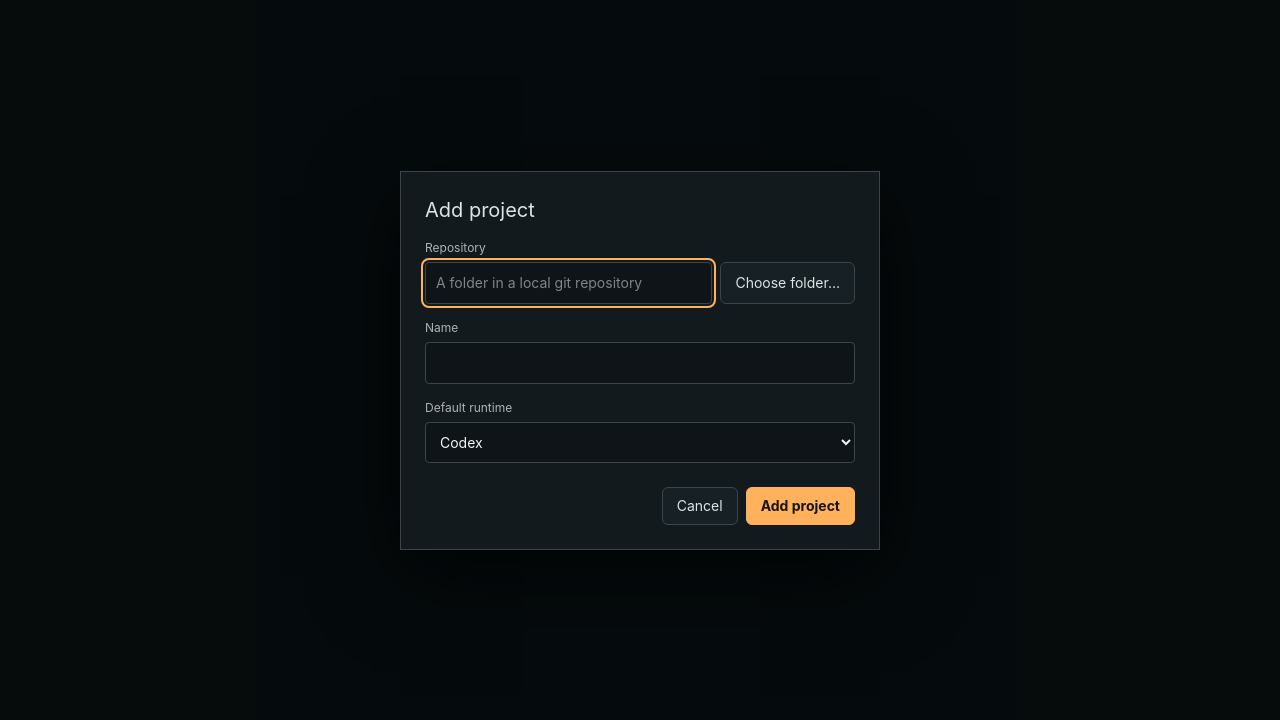
Test case: AddProjectDialog › drops an inspection that answers after the folder changed
The width and height of the screenshot is (1280, 720).
Type "/src/taken" into the field named "Repository folder" at (569,282), box [425,262,712,304]
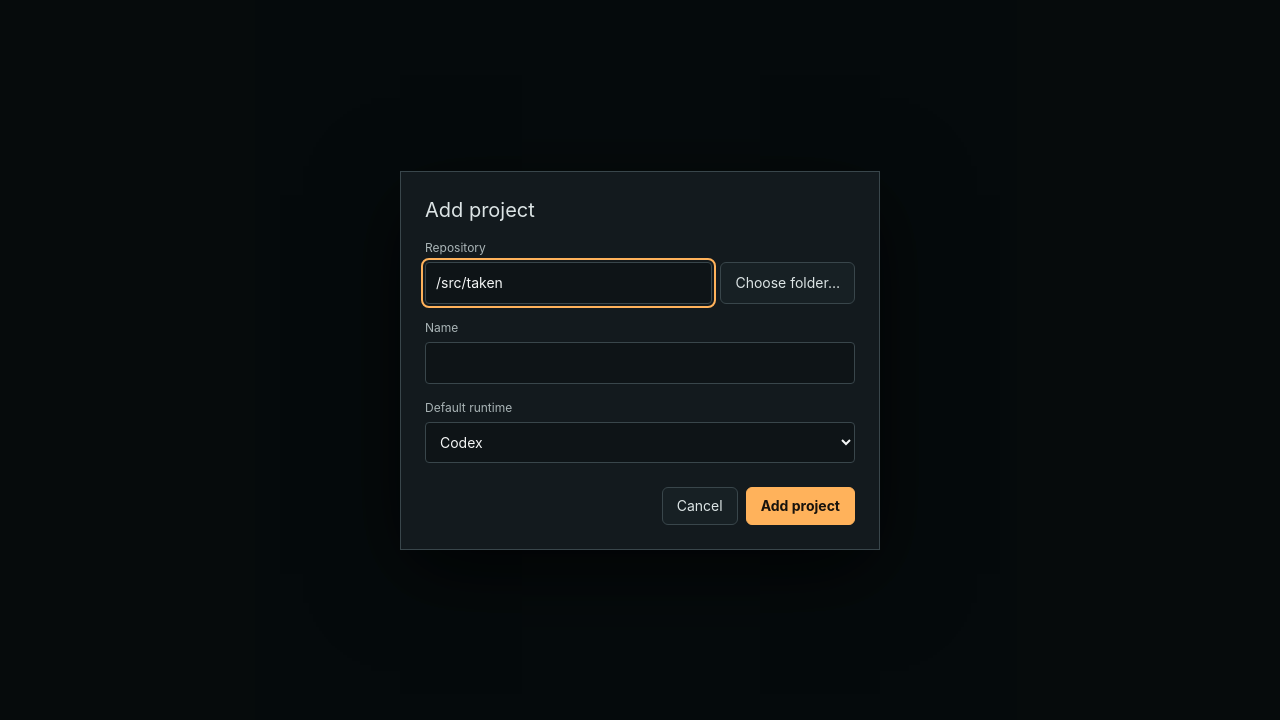
Replace the text in the field named "Repository folder" with "/src/bakery" at (569,282), box [425,262,712,304]
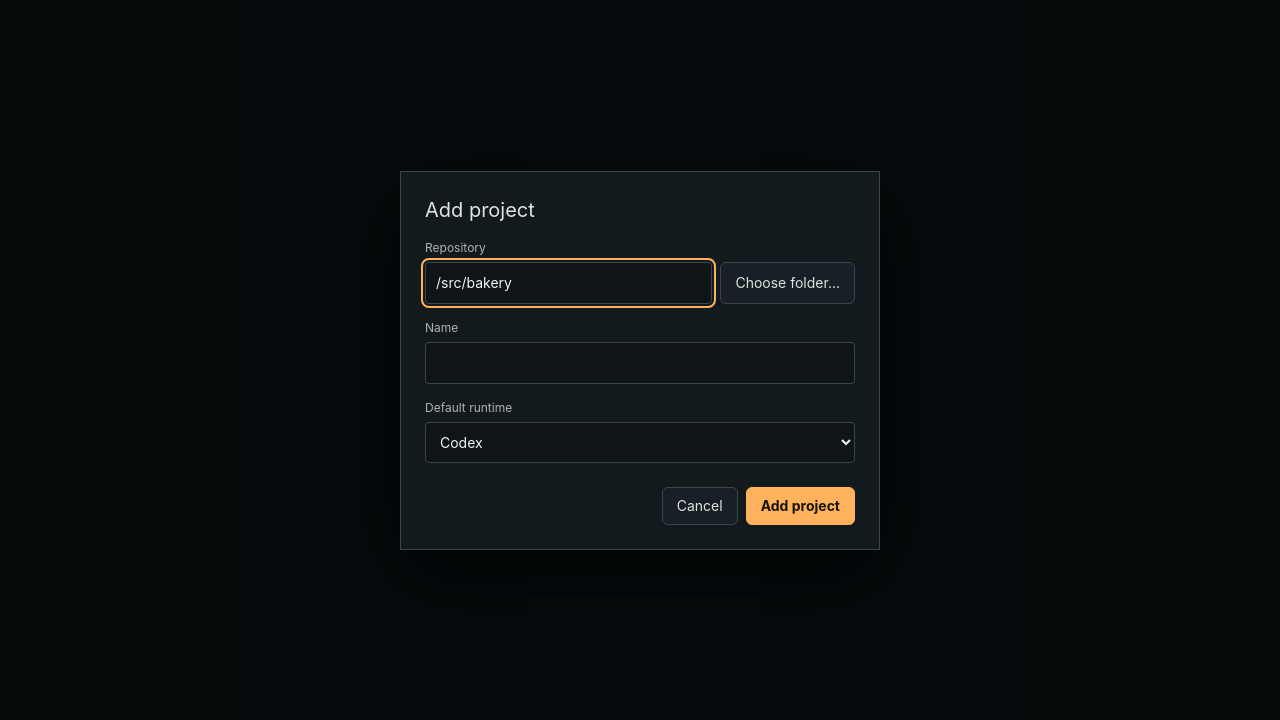
Leave the field named "Repository folder", box [425,262,712,304]
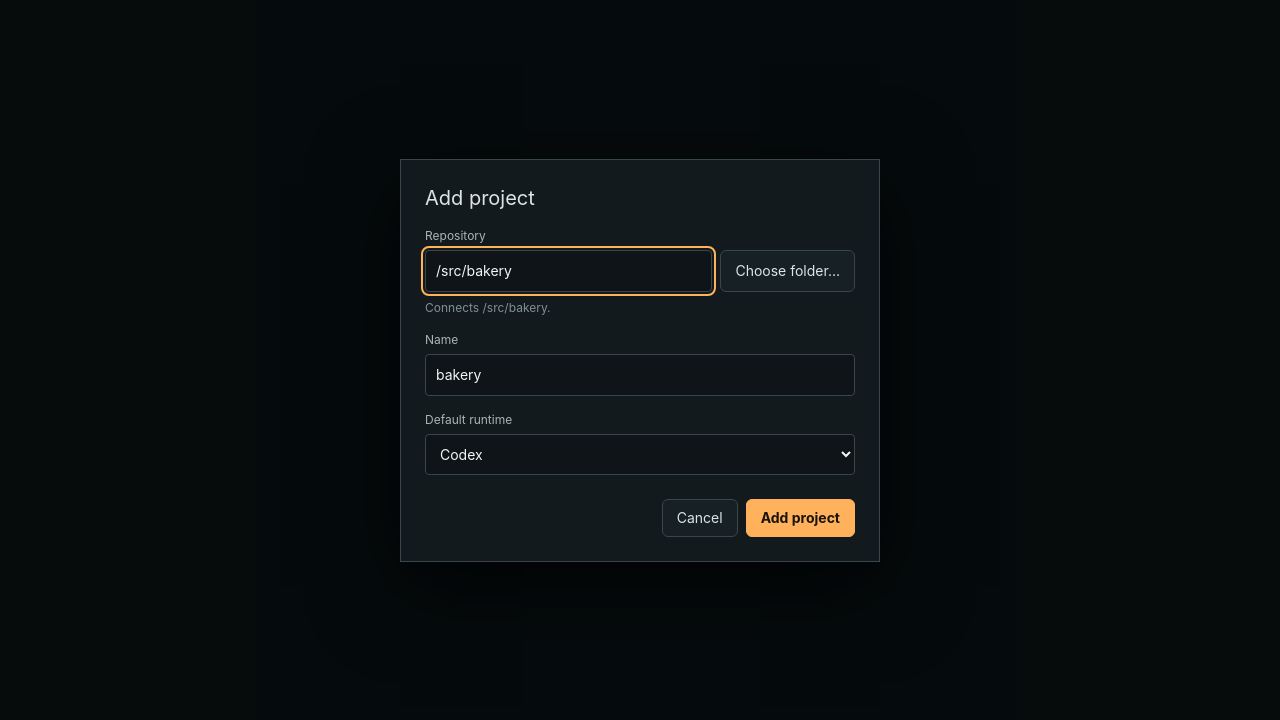
Expected: the button "Add project" is enabled, [746,498,855,536]
Result: the message reads "Connects /src/bakery." at [425,300,551,314]
Result: the field labelled "Name" holds "bakery" at [425,354,855,396]
